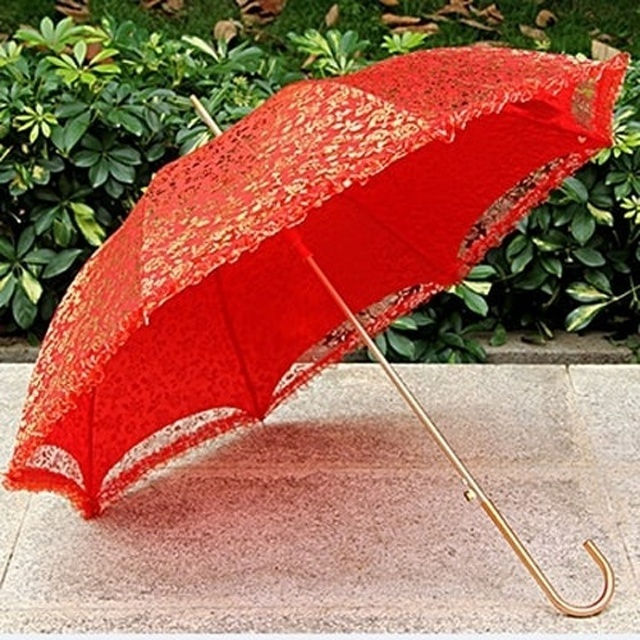umbrella: (1, 44, 640, 622)
